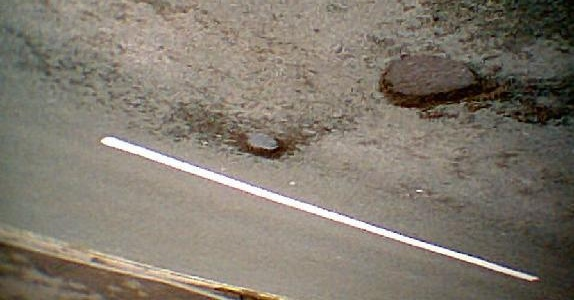pothole: (376, 50, 483, 112), (234, 127, 287, 163)
